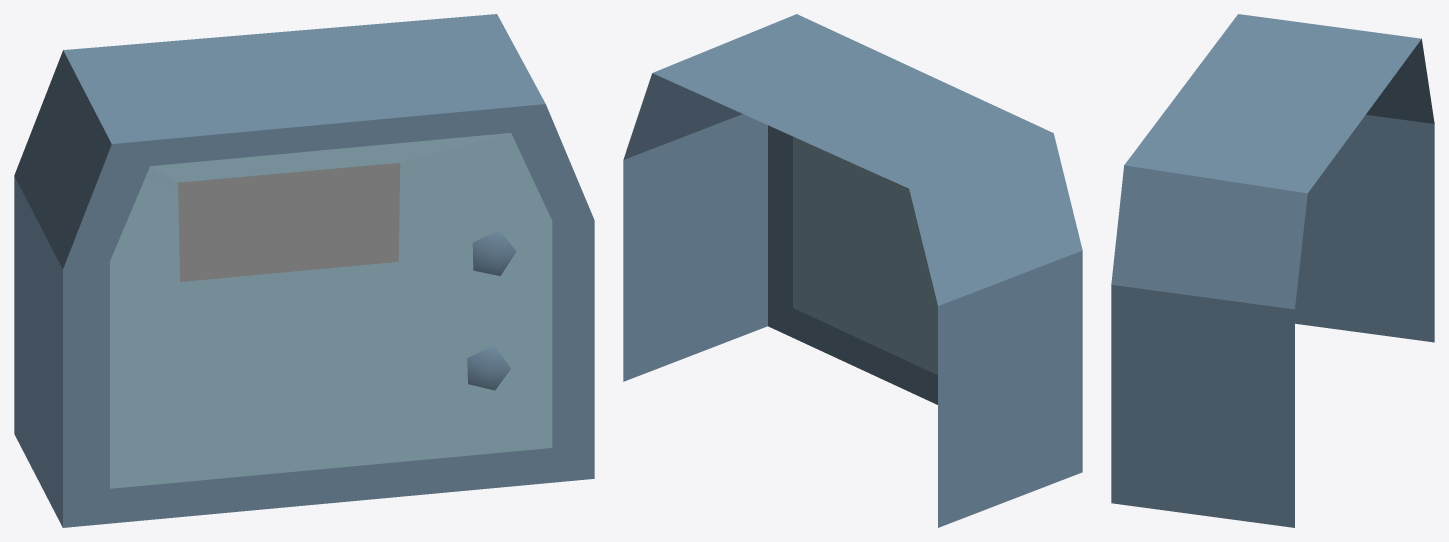
The model's file is MSH_QuestObject_box_03.fbx.
3 renders of one model, left to right at view 1: azimuth 30°, elevation 25°; view 2: azimuth 150°, elevation 25°; view 3: azimuth 270°, elevation 25°, orthographic. The views are drawn at different scales.
Parts seen in each view (by area): view 1: MSH_QuestObject_box_03; view 2: MSH_QuestObject_box_03; view 3: MSH_QuestObject_box_03.
Part boxes in pixels (x1,y1,x2,y2): MSH_QuestObject_box_03: (14,14,594,527); MSH_QuestObject_box_03: (623,14,1082,527); MSH_QuestObject_box_03: (1111,14,1434,527).
Size of the model in its own units: 0.7361 by 0.524 by 0.4786.
